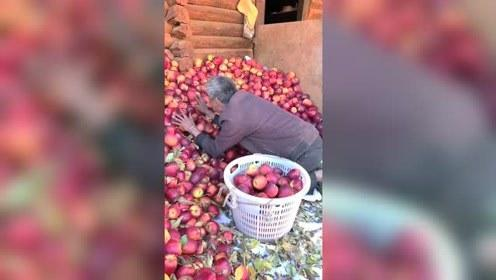apple: (251, 174, 267, 189)
